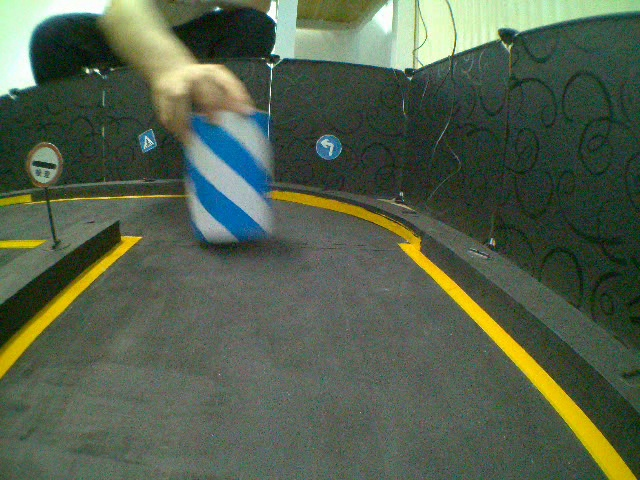bucket: (183, 110, 280, 246)
